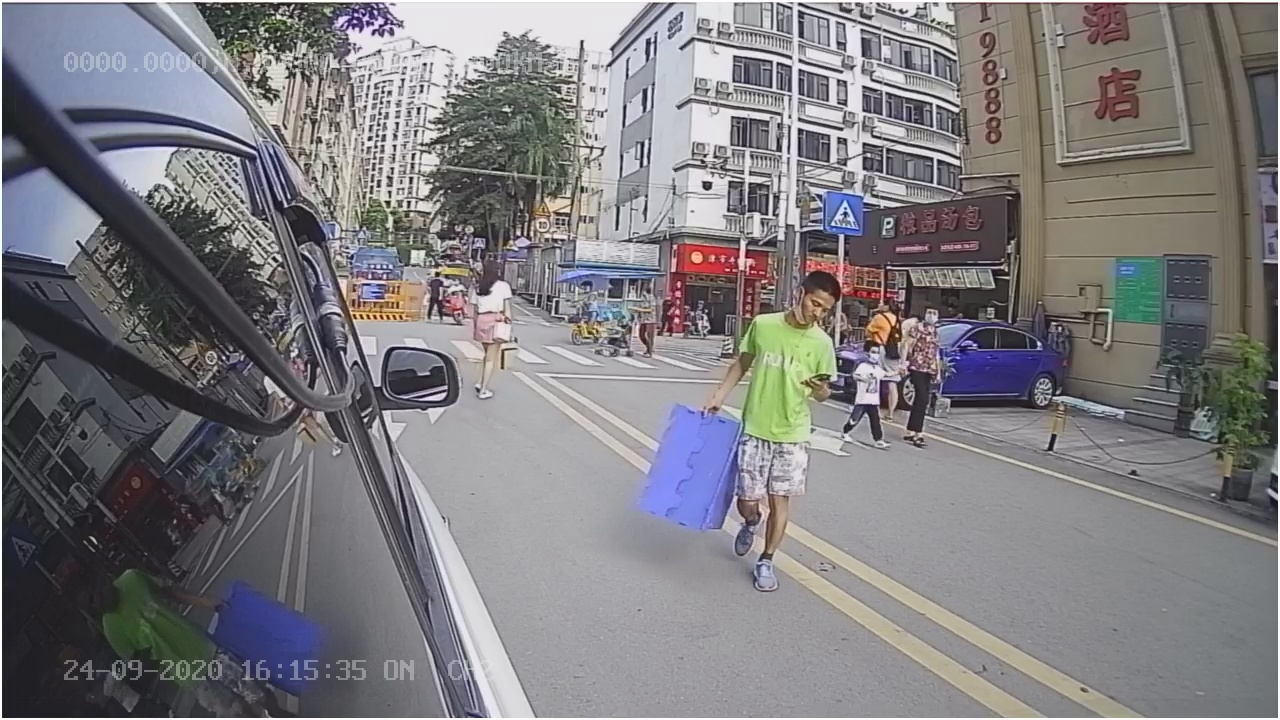person: (663, 261, 857, 605)
